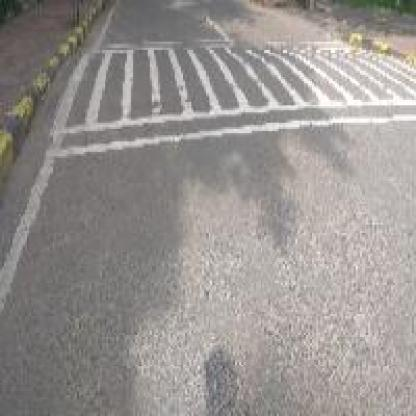Speed Bump: (52, 35, 414, 162)
